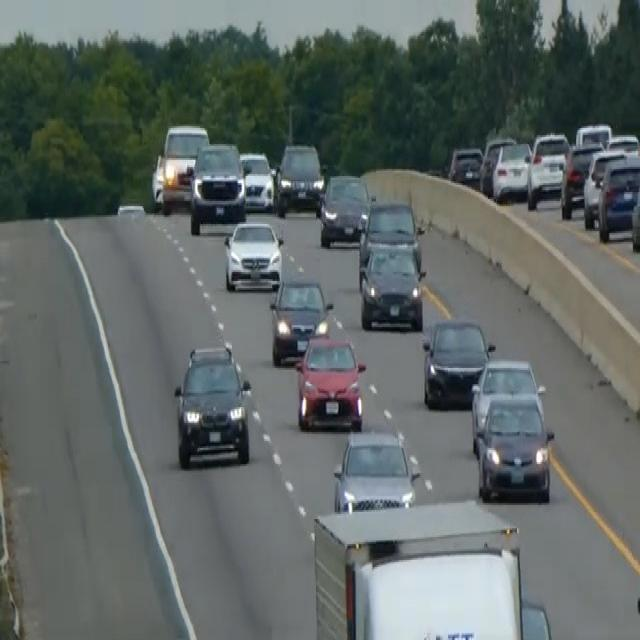car: (475, 391, 554, 503), (293, 318, 367, 430), (332, 427, 420, 512), (469, 356, 545, 454), (421, 315, 494, 409), (359, 238, 426, 331), (269, 274, 333, 364), (357, 197, 422, 283), (188, 140, 246, 233), (155, 121, 209, 211), (223, 217, 283, 291), (319, 171, 370, 247), (597, 153, 639, 242), (275, 141, 325, 215), (582, 146, 625, 228), (559, 138, 602, 218), (526, 130, 570, 208), (491, 138, 531, 202), (478, 135, 515, 196), (239, 150, 275, 212), (447, 144, 483, 187), (574, 121, 612, 147), (605, 132, 639, 160), (150, 149, 164, 208), (630, 167, 639, 253)
jeep: (172, 338, 252, 469)
lorry: (310, 498, 547, 638)
